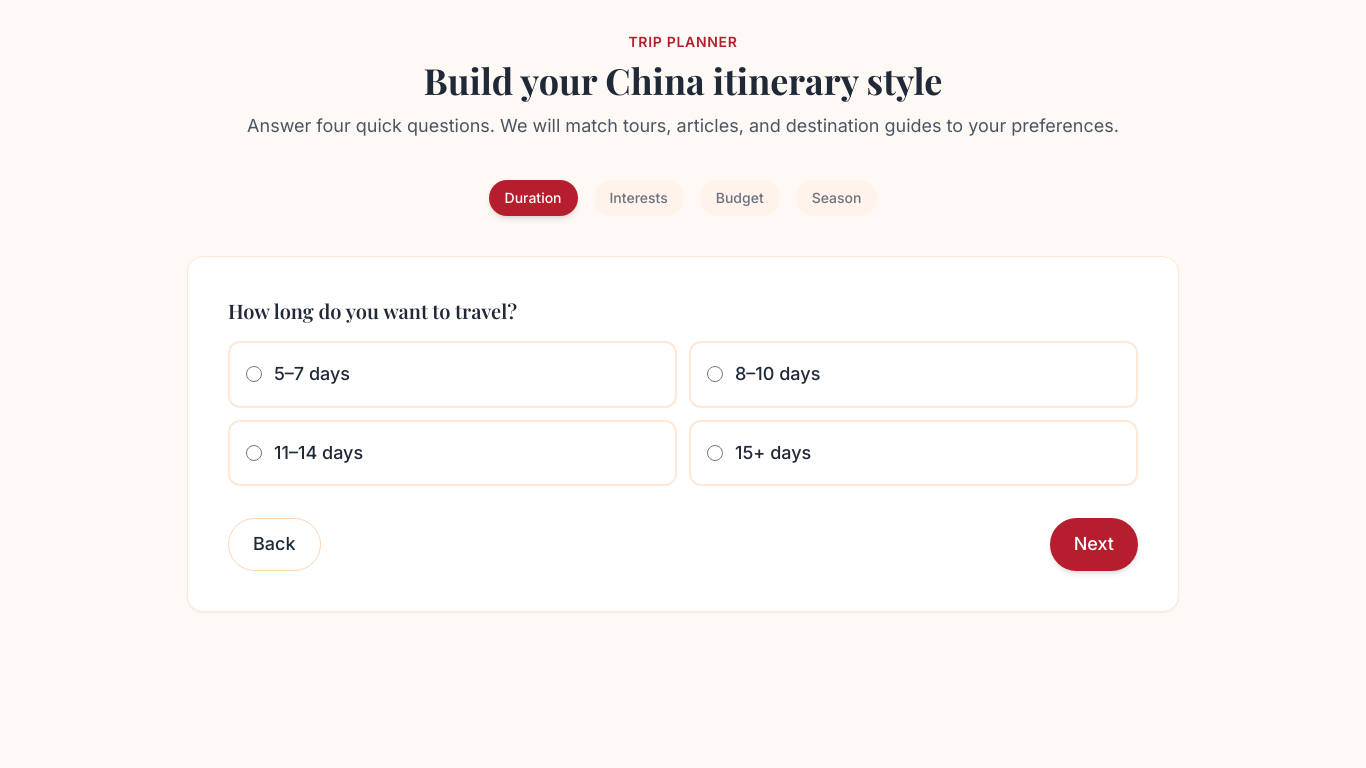
it: TripPlanner component › back button moves to previous step
Click the radio button labelled "8–10 days" at (715, 374), box left=707, top=366, right=723, bottom=382
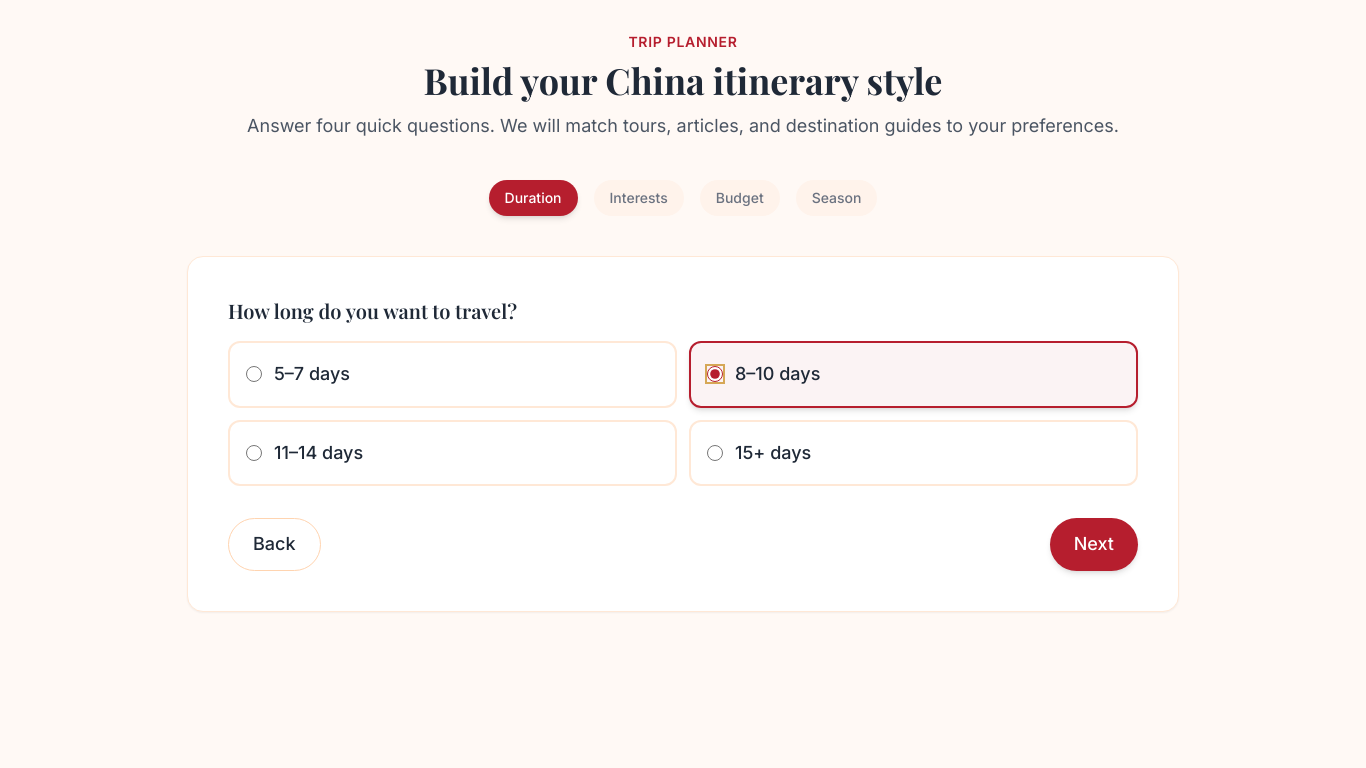
Click the button "Next" at (1094, 544), box left=1050, top=518, right=1138, bottom=571
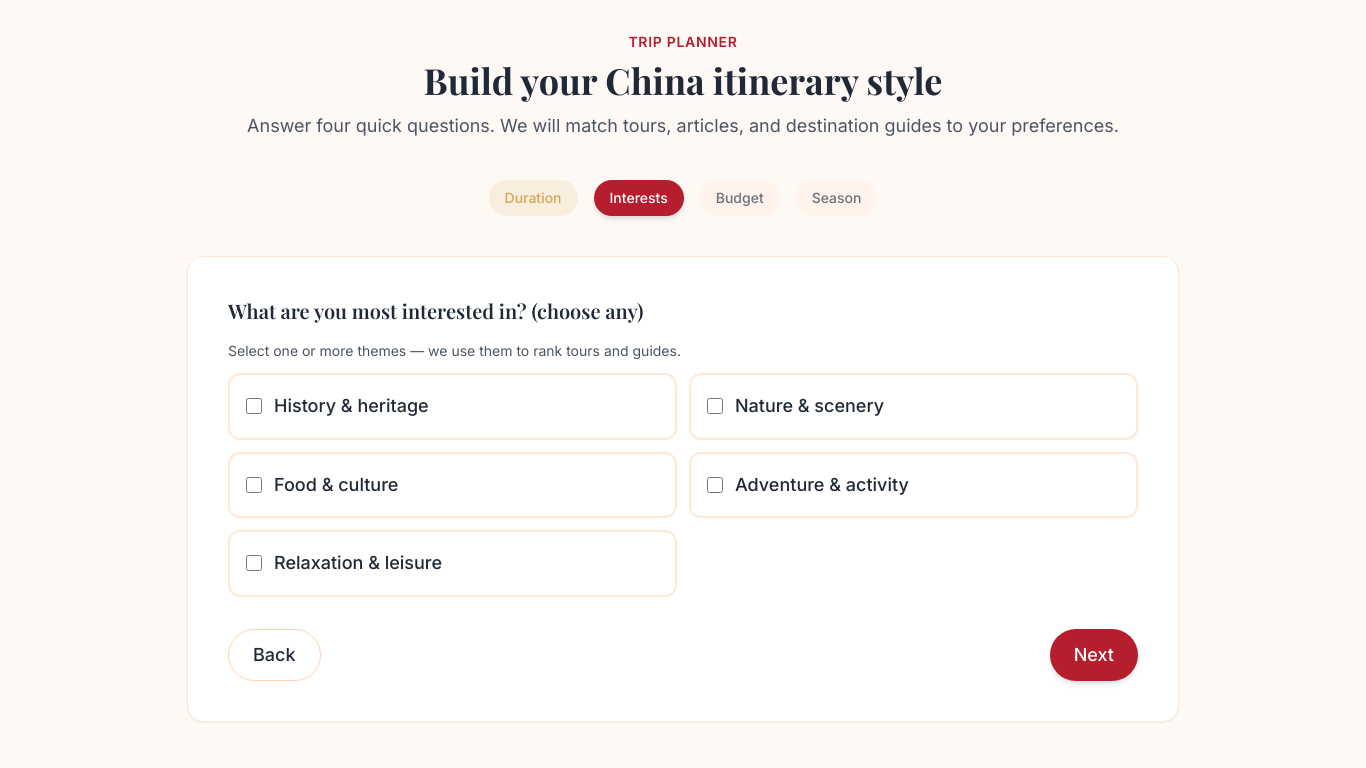
Click the button "Back" at (274, 655), box left=228, top=629, right=320, bottom=681
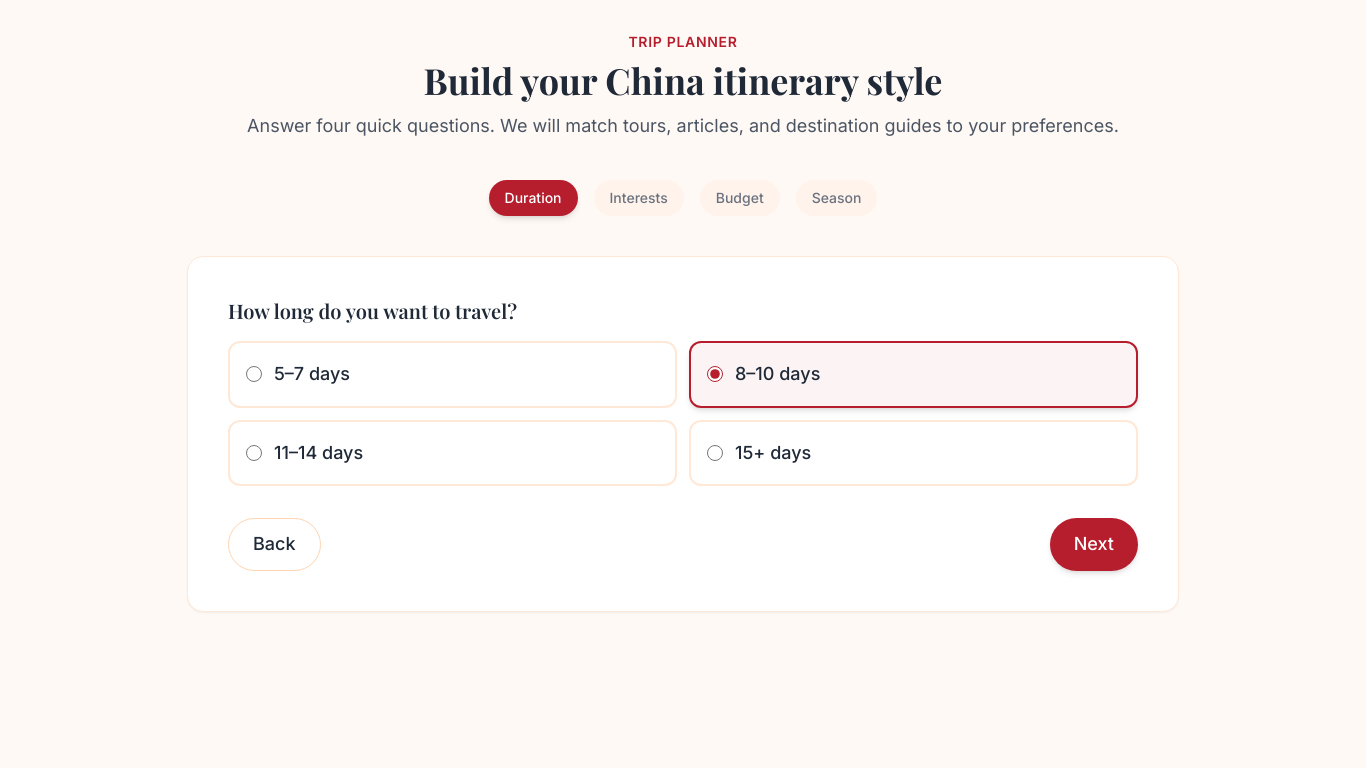
Result: the radio button labelled "8–10 days" is checked at left=707, top=366, right=723, bottom=382
